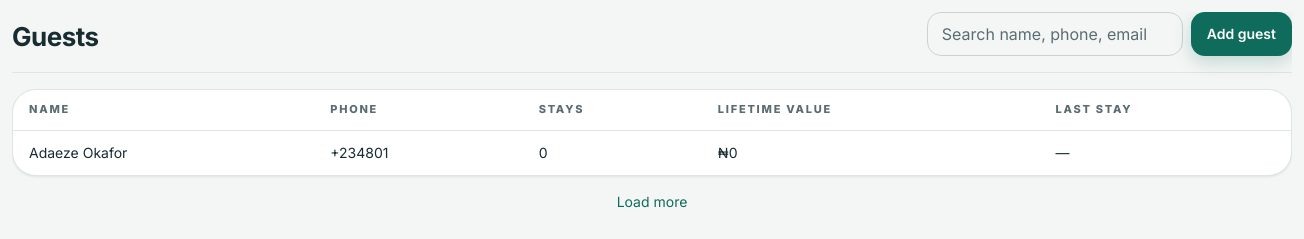
Test: GuestsPage paging [GST-02] › resets paging when the search changes
The width and height of the screenshot is (1304, 239).
Expected: the text "Adaeze Okafor" is shown, [13, 130, 314, 175]
Click the button "Load more" at [652, 202], box [617, 192, 687, 212]
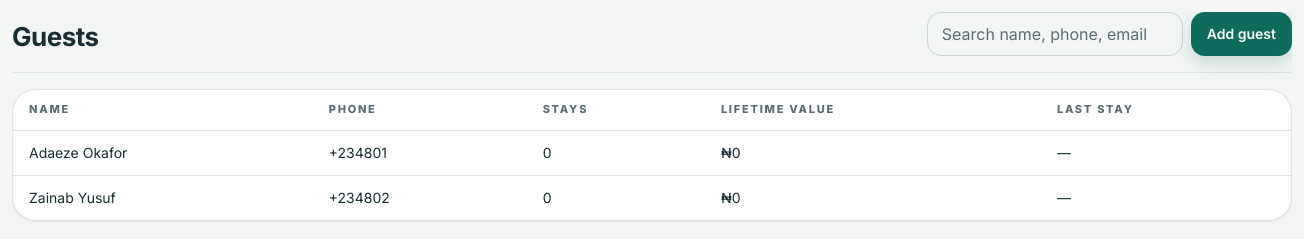
Expected: the text "Zainab Yusuf" is shown, [13, 175, 313, 220]
Type "oka" into the field named "Search guests" at [1055, 34], box [927, 12, 1183, 56]
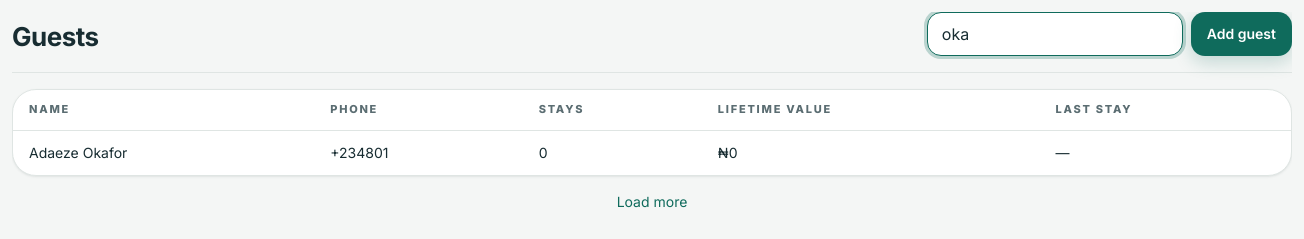
Expected: the text "Zainab Yusuf" is gone
